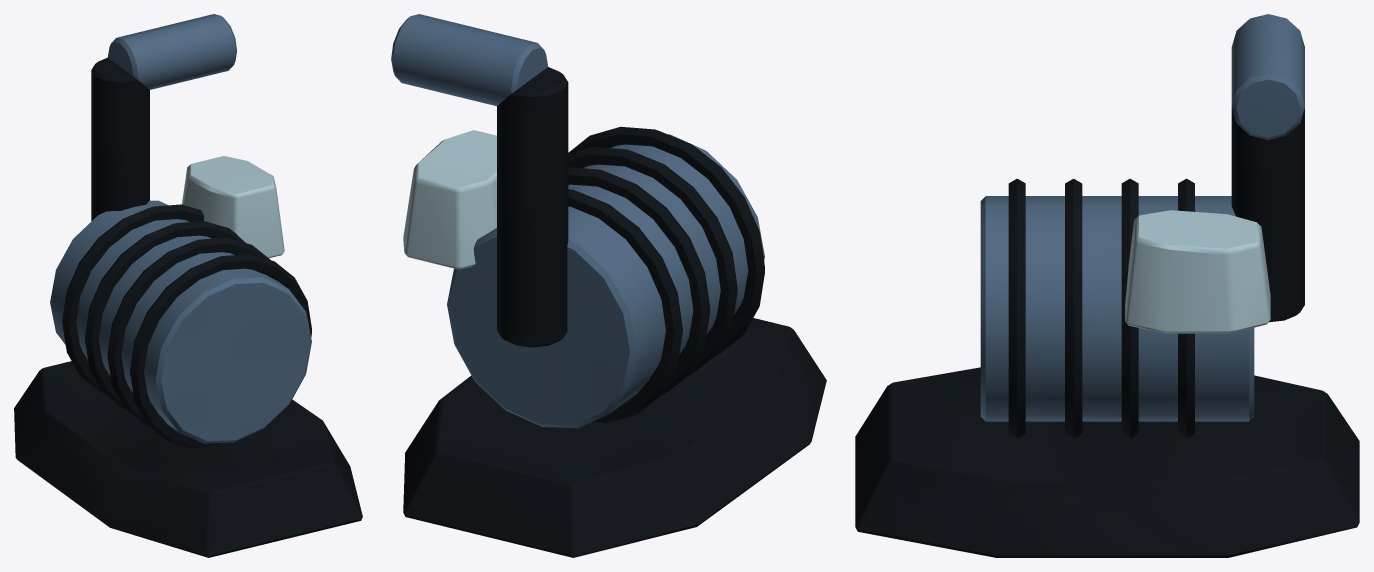
File: Coolant_Pump.fbx
The picture shows the model from 3 angles, left to right: view 1: azimuth 30°, elevation 25°; view 2: azimuth 150°, elevation 25°; view 3: azimuth 270°, elevation 25°; orthographic projection. The views are drawn at different scales.
Visible parts, largest first — view 1: Coolant_Pump; view 2: Coolant_Pump; view 3: Coolant_Pump.
Boxes of the visible parts, bbox=[...] form: Coolant_Pump: bbox=[14, 14, 362, 557]; Coolant_Pump: bbox=[391, 14, 826, 557]; Coolant_Pump: bbox=[855, 14, 1359, 557].
Size of the model in its own units: 1.24 by 1.85 by 1.79.
